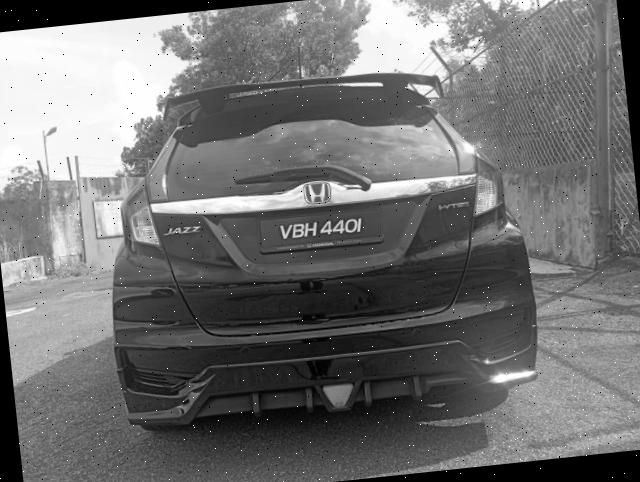License_Plate: (262, 209, 377, 251)
car: (86, 54, 553, 451)
